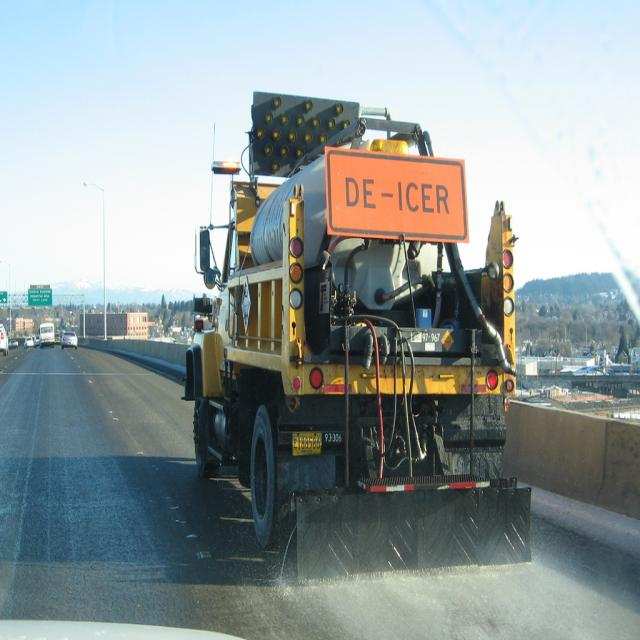car: (59, 330, 77, 348), (0, 324, 9, 354), (25, 334, 36, 345)
